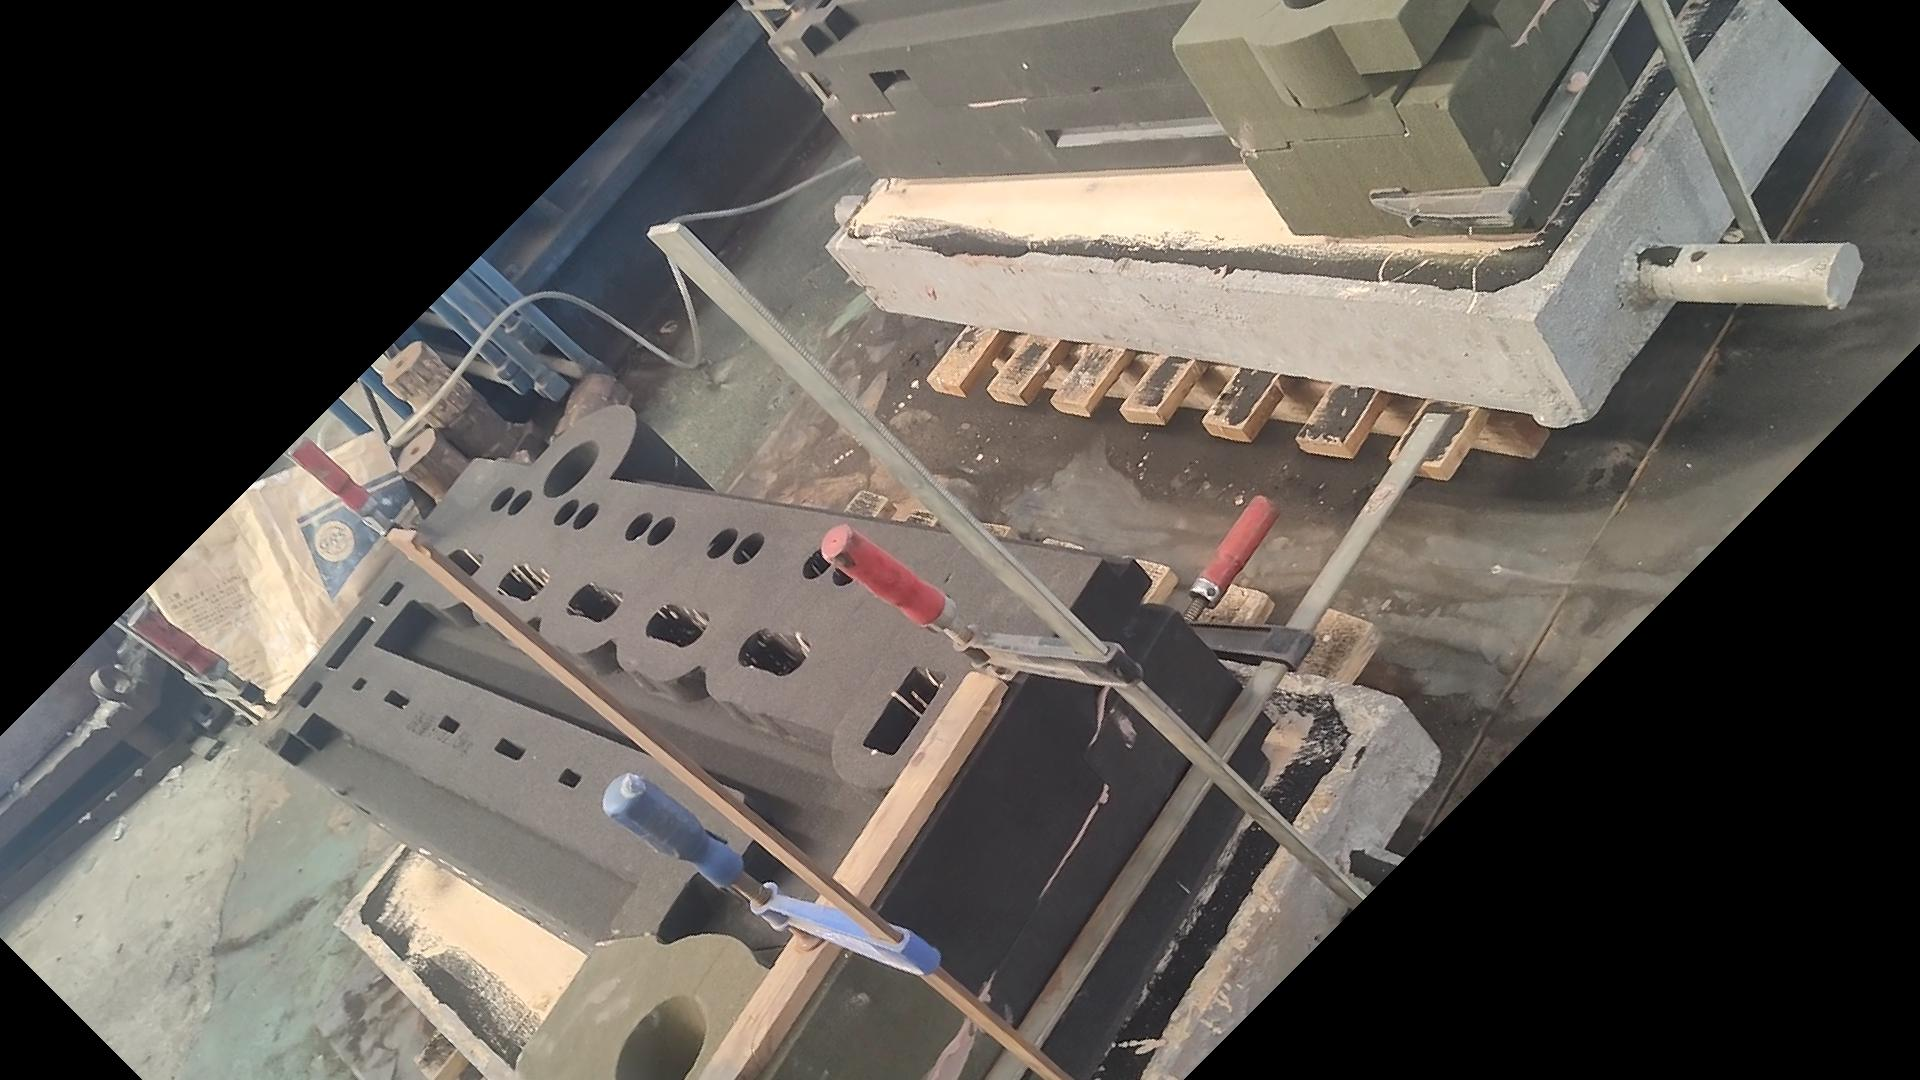pouring hole: (613, 993, 707, 1080), (542, 440, 599, 498), (1282, 1, 1327, 9)
